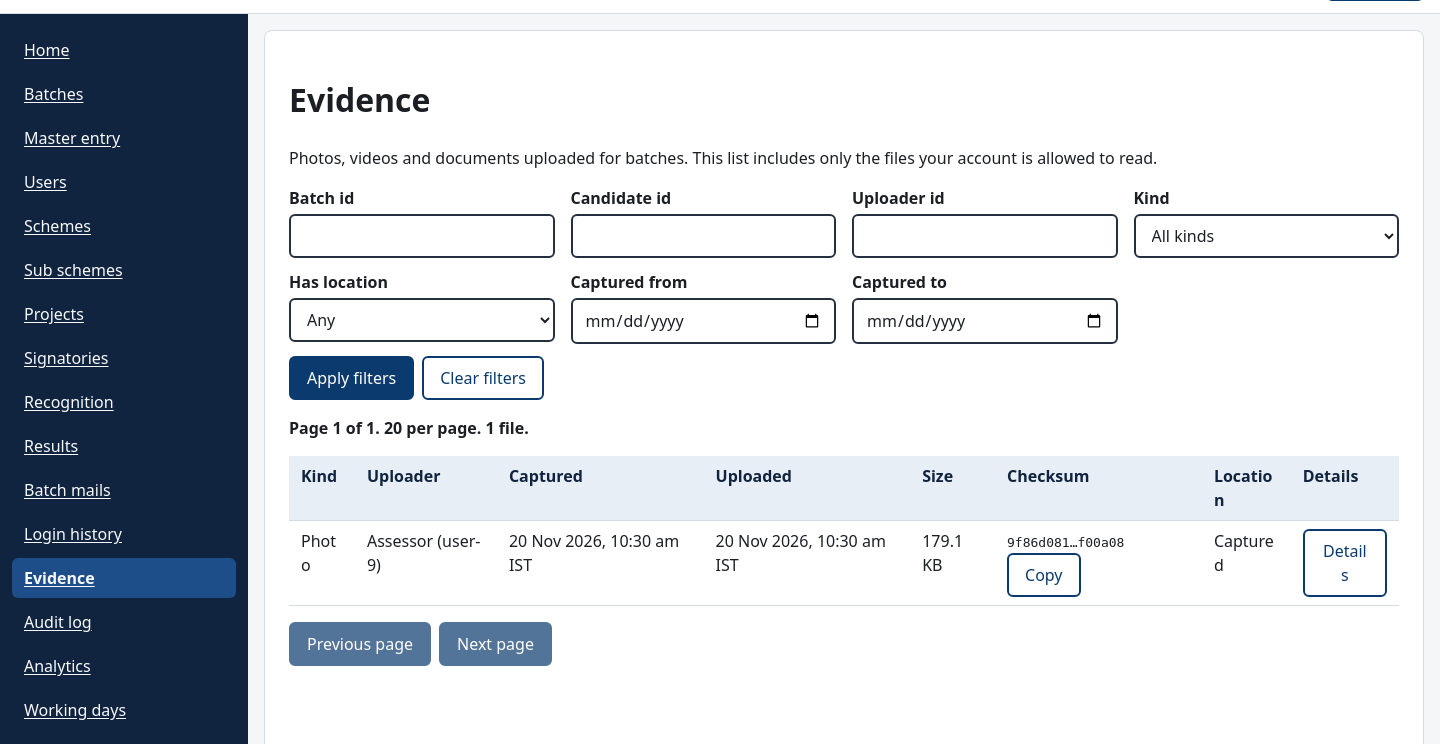
Test: previews an image from raw bytes (local disk) and sends the token
Step 1. Click the button with aria-label "Details for" → (1345, 563), box 1303,529 -> 1387,597
(page scrolled)
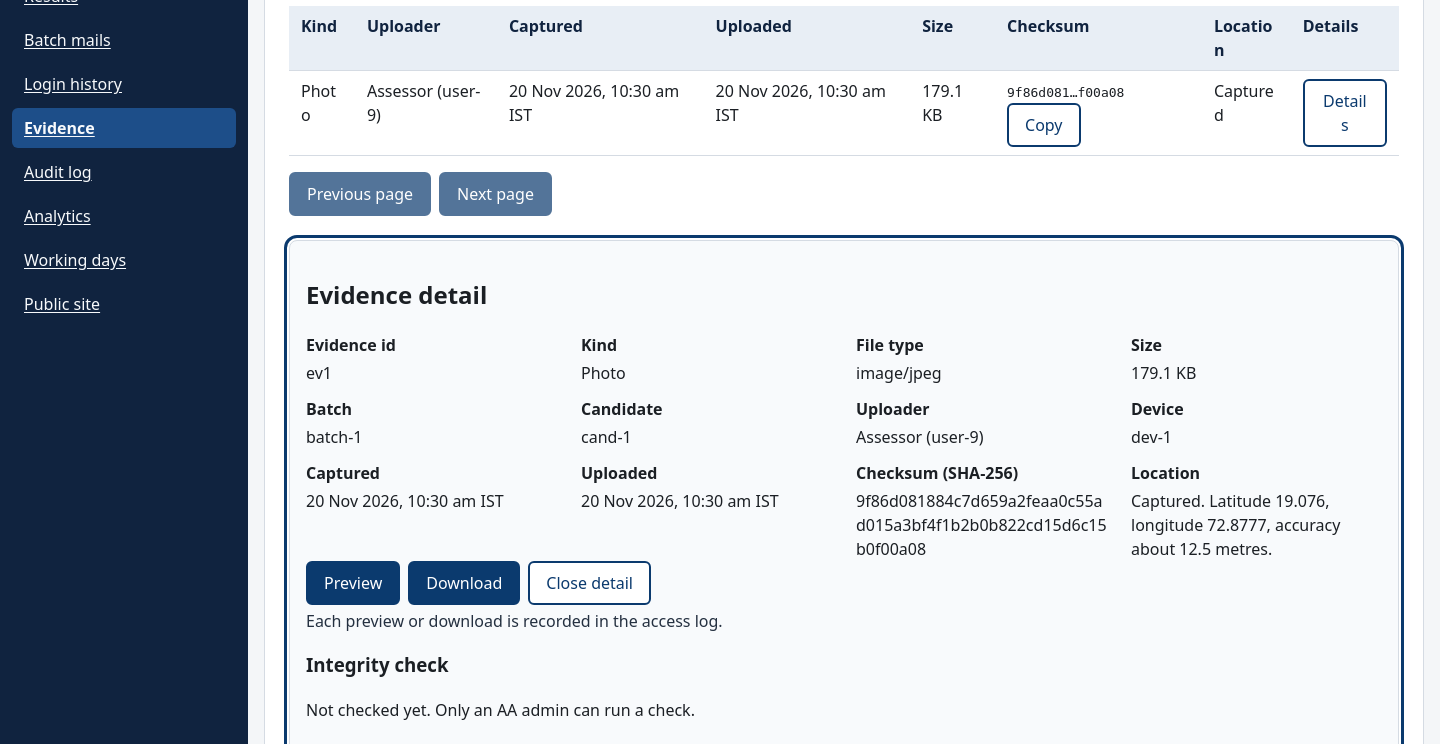
Step 2. Click the button "Preview" → (353, 583), box 306,561 -> 400,605
(page scrolled)
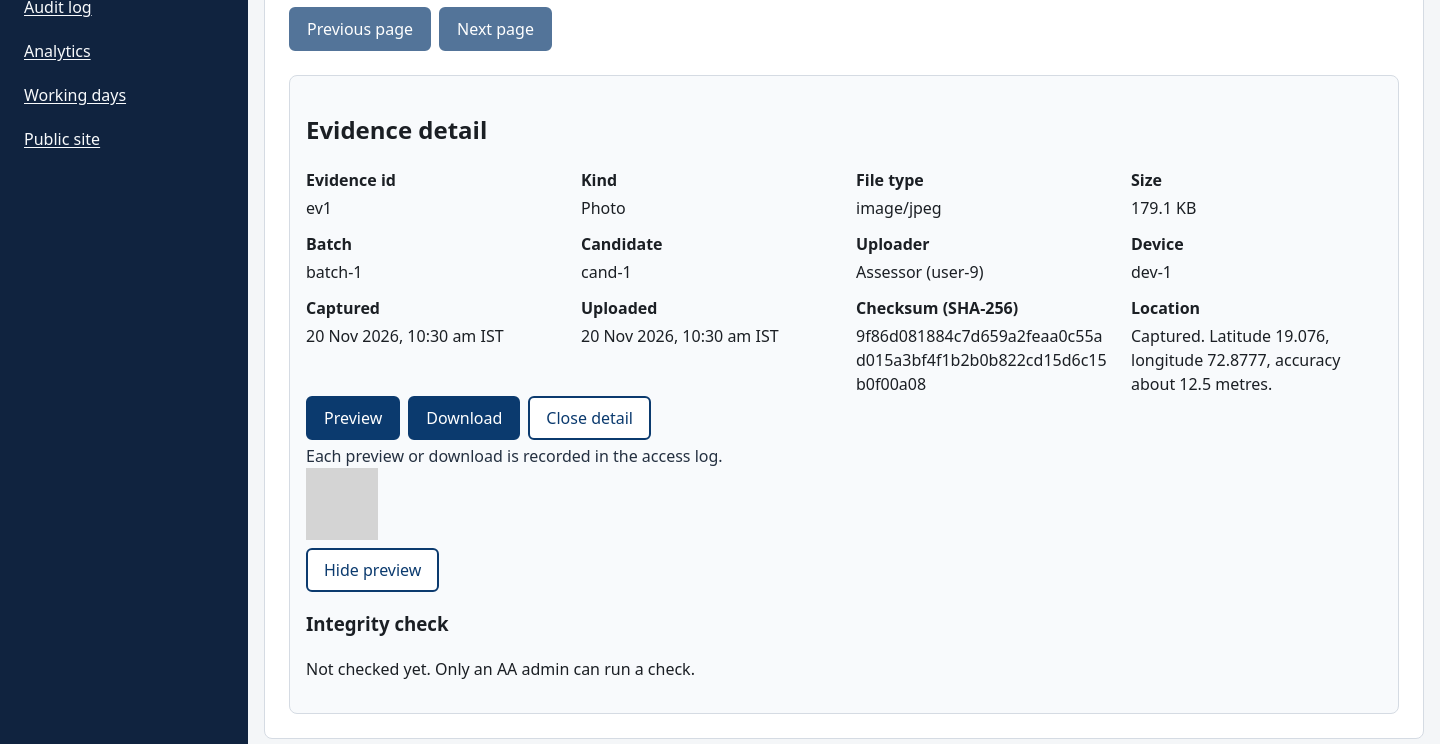
Step 3. Click the button "Hide preview" → (373, 570), box 306,548 -> 439,592
(page scrolled)
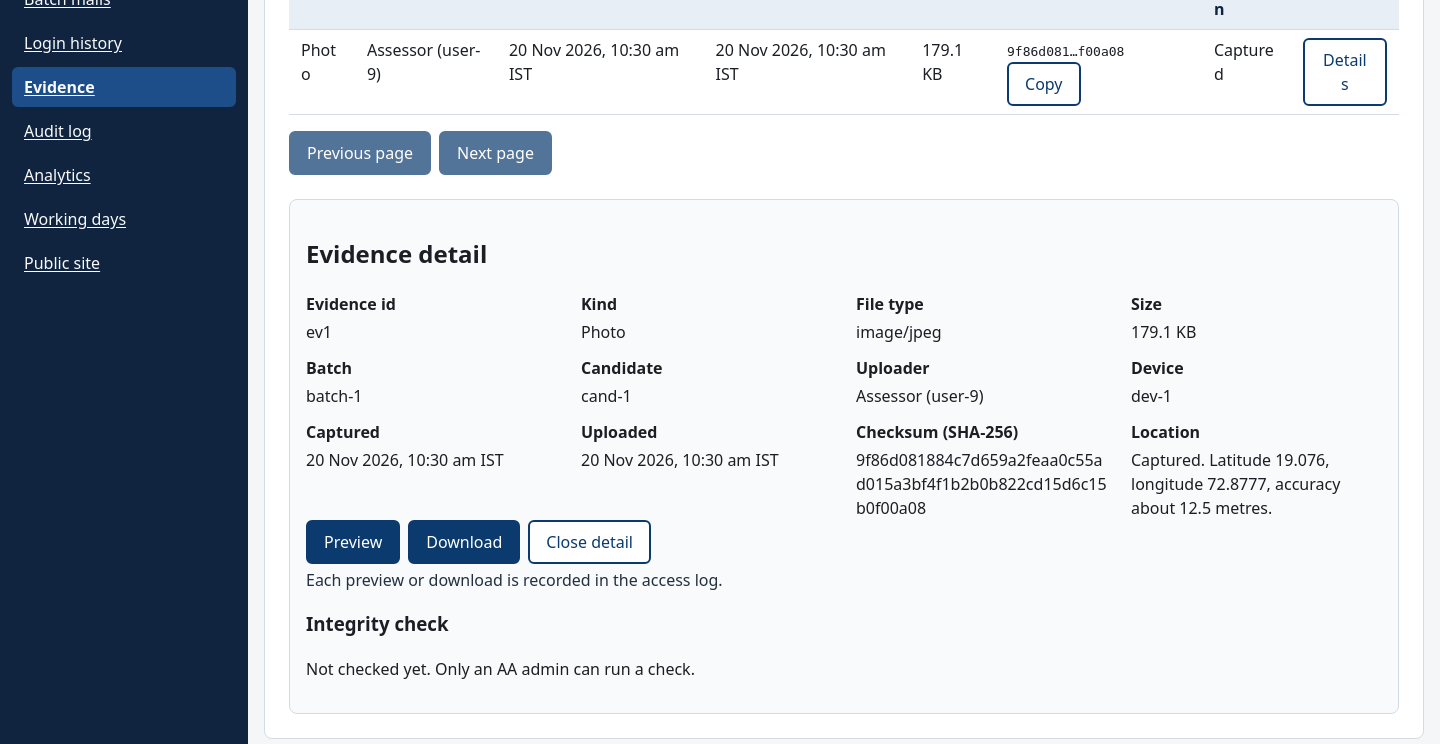
Check: the picture is gone
